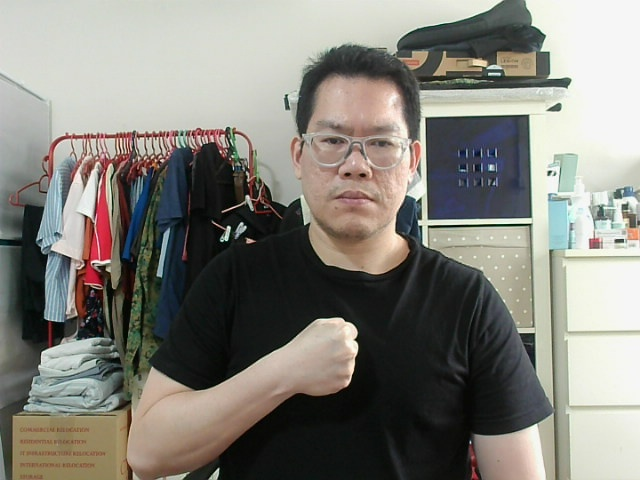sorry: (287, 322, 352, 383)
